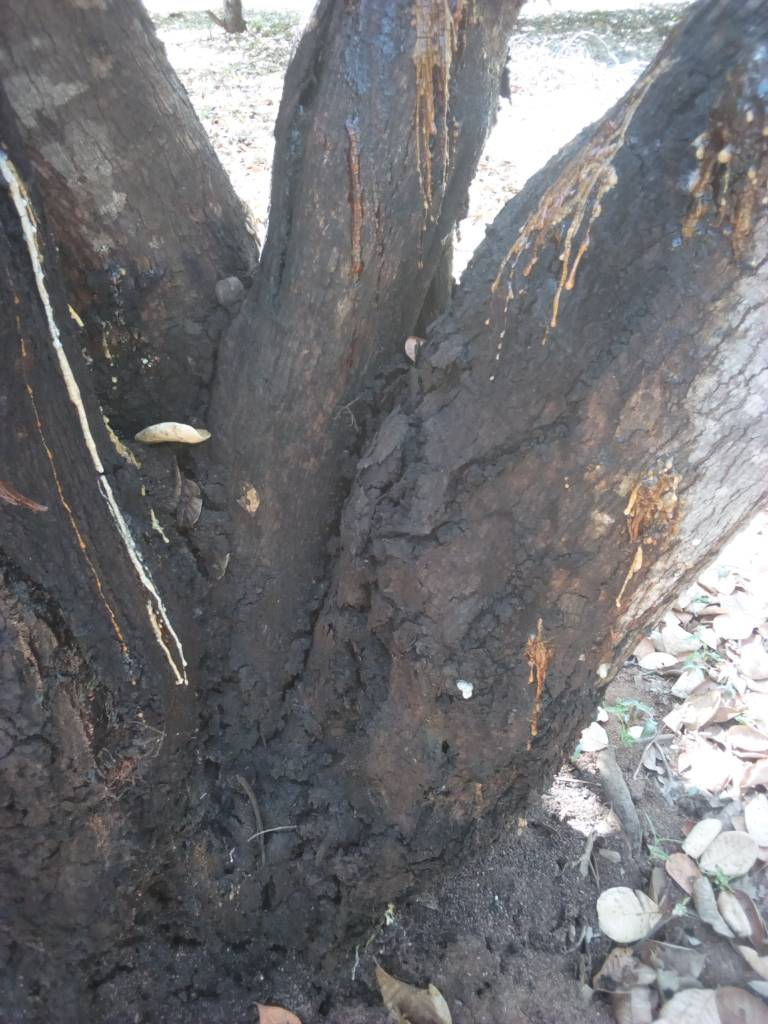Termites: (147, 422, 563, 938), (1, 589, 96, 896)
